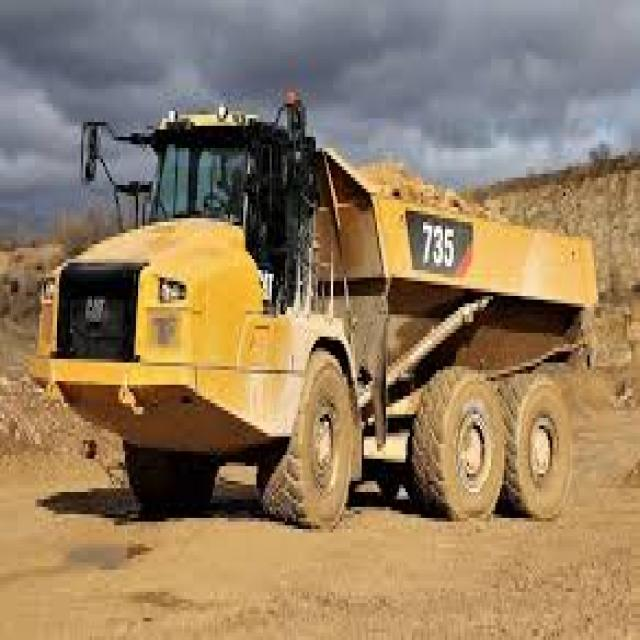dump_truck: (35, 82, 598, 520)
